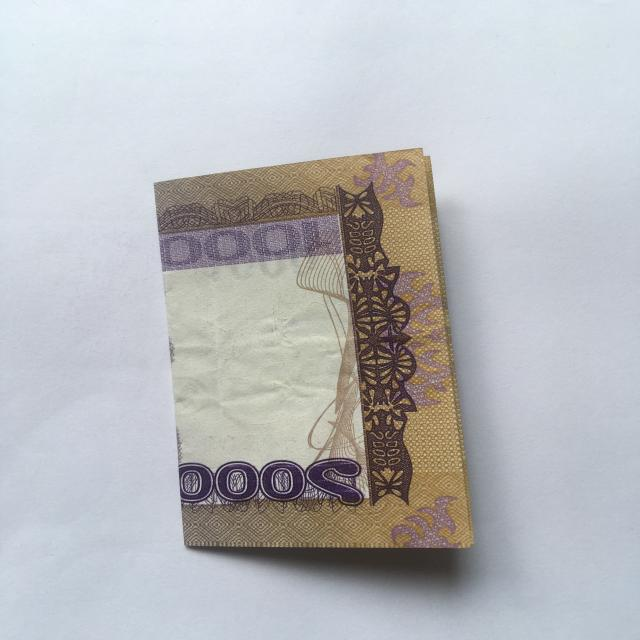Taka: (142, 148, 488, 556)
